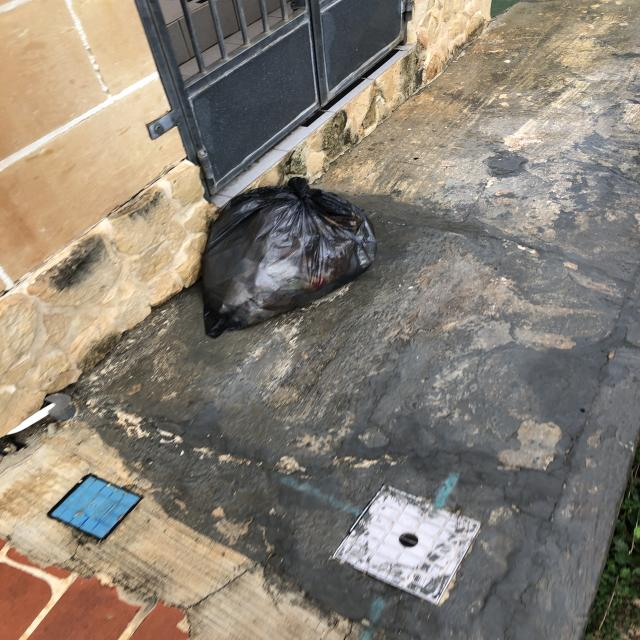Mixed Waste -Black Bag-: (201, 179, 377, 339)
